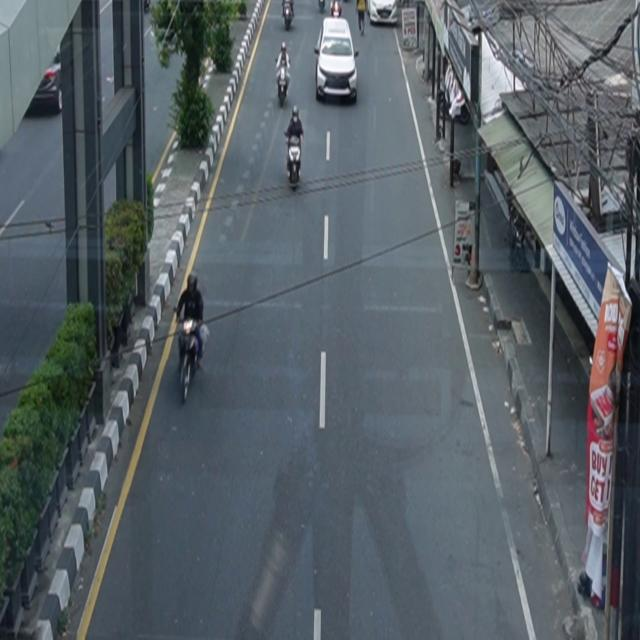car: (314, 18, 360, 104)
